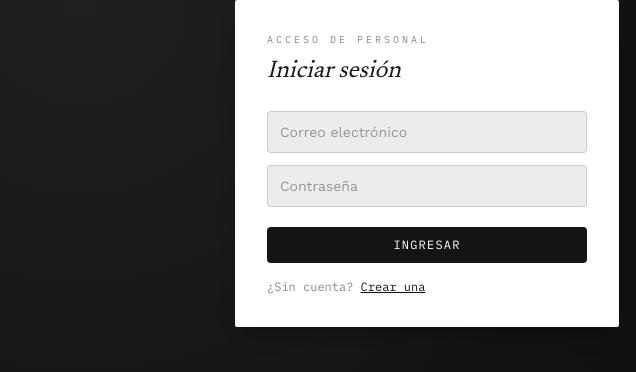
Test: LoginPage › credenciales inválidas: muestra el error del backend y no navega
Type "ana@example.com" into the field with placeholder "Correo electrónico".
click(427, 132); type("ana@example.com")  # box x1=267 y1=111 x2=587 y2=153
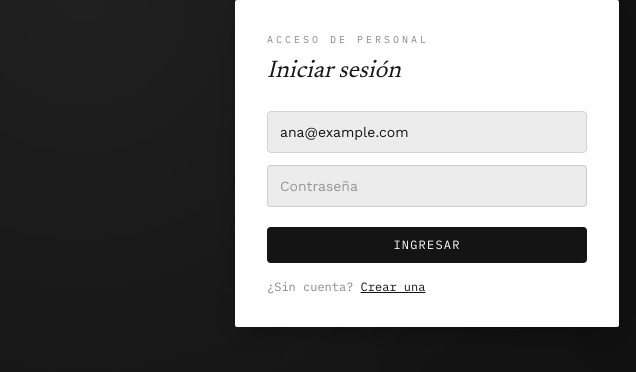
Type "clave-incorrecta" into the password field with placeholder "Contraseña".
click(427, 186); type("clave-incorrecta")  # box x1=267 y1=165 x2=587 y2=207
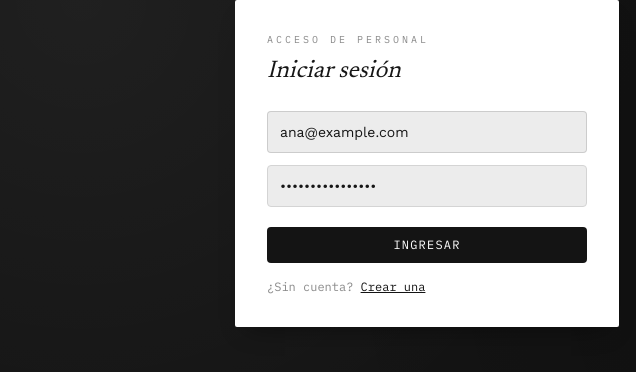
Click the button "Ingresar".
click(427, 245)  # box x1=267 y1=227 x2=587 y2=263
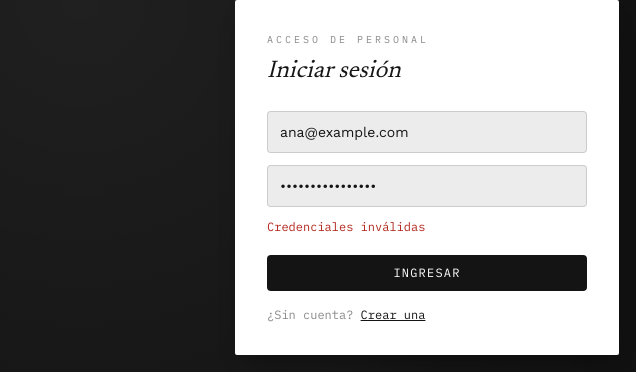
Expected: the text "Credenciales inválidas" is shown, x1=267 y1=219 x2=425 y2=234
